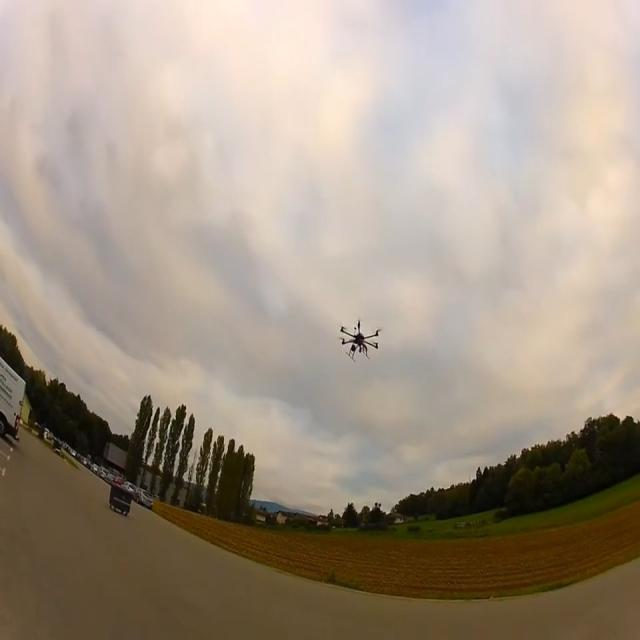drone: (338, 319, 381, 362)
